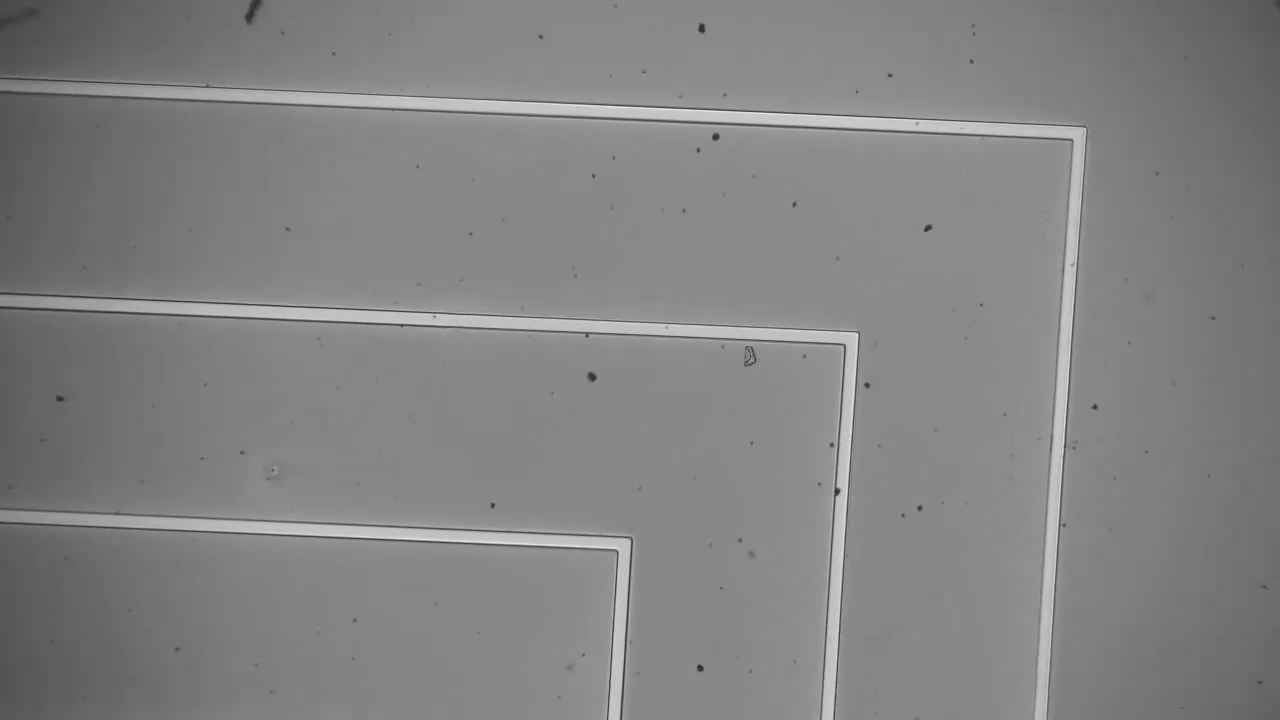stains_enbedded: (830, 479, 847, 503)
